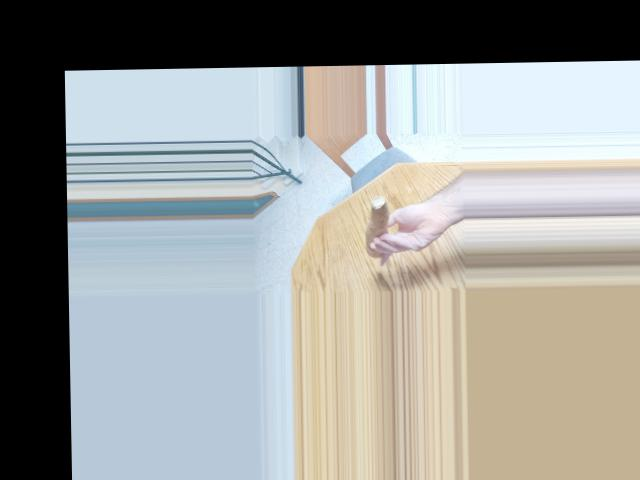sweet_potato: (361, 198, 396, 250)
